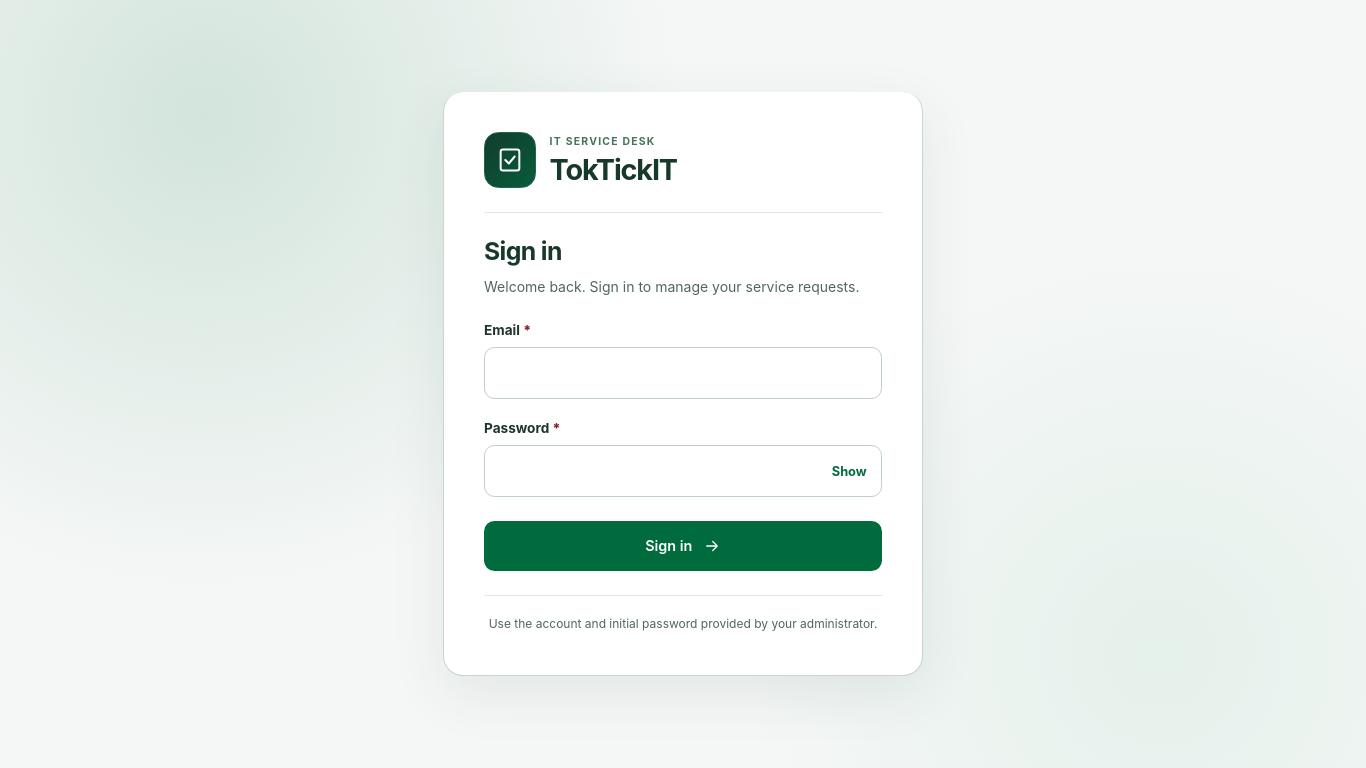
it: Lab 3 authentication UI and role shell › keeps email, clears password and renders a safe server failure
Step 1. Type "jennifer@example.test" into the field labelled "Email *" → [683, 373], box [484,347,882,399]
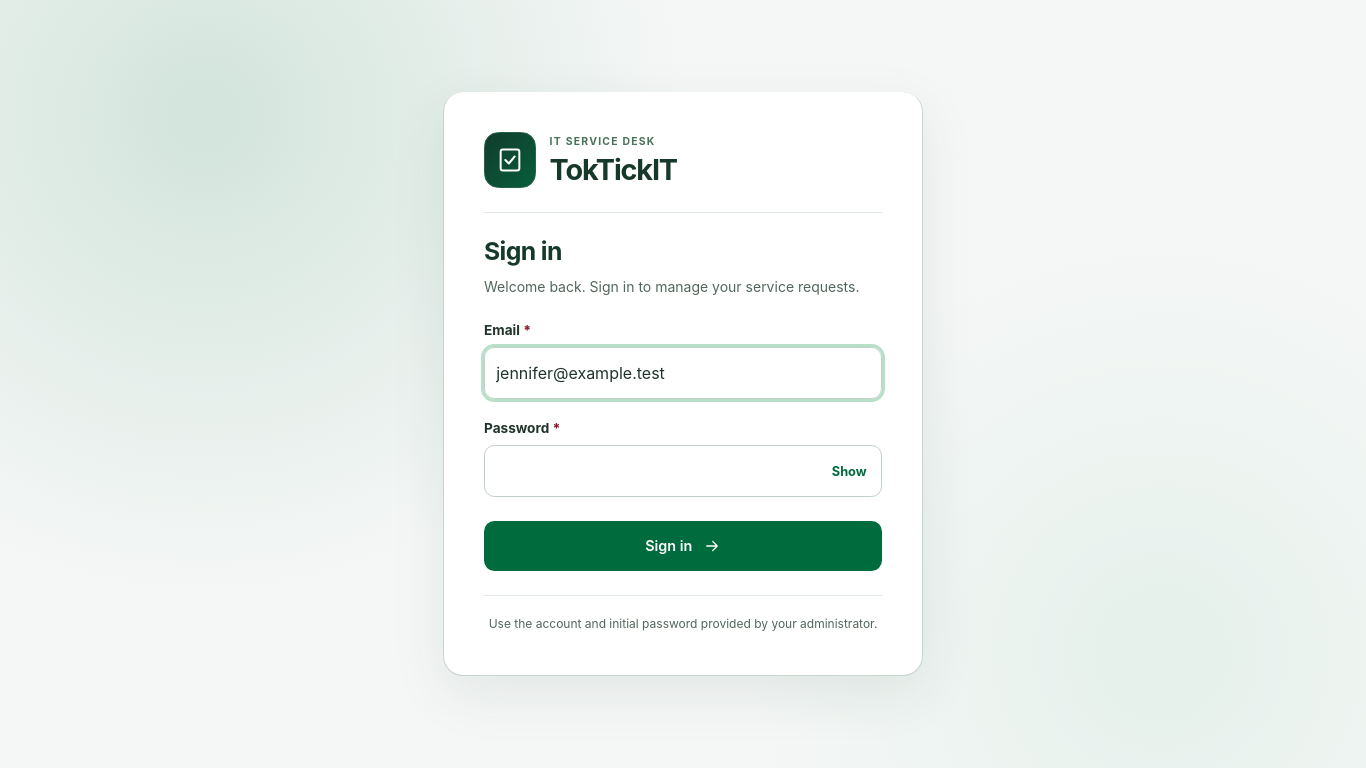
Step 2. Type "Wrong Password" into the password field labelled "Password *" → [683, 471], box [484,445,882,497]
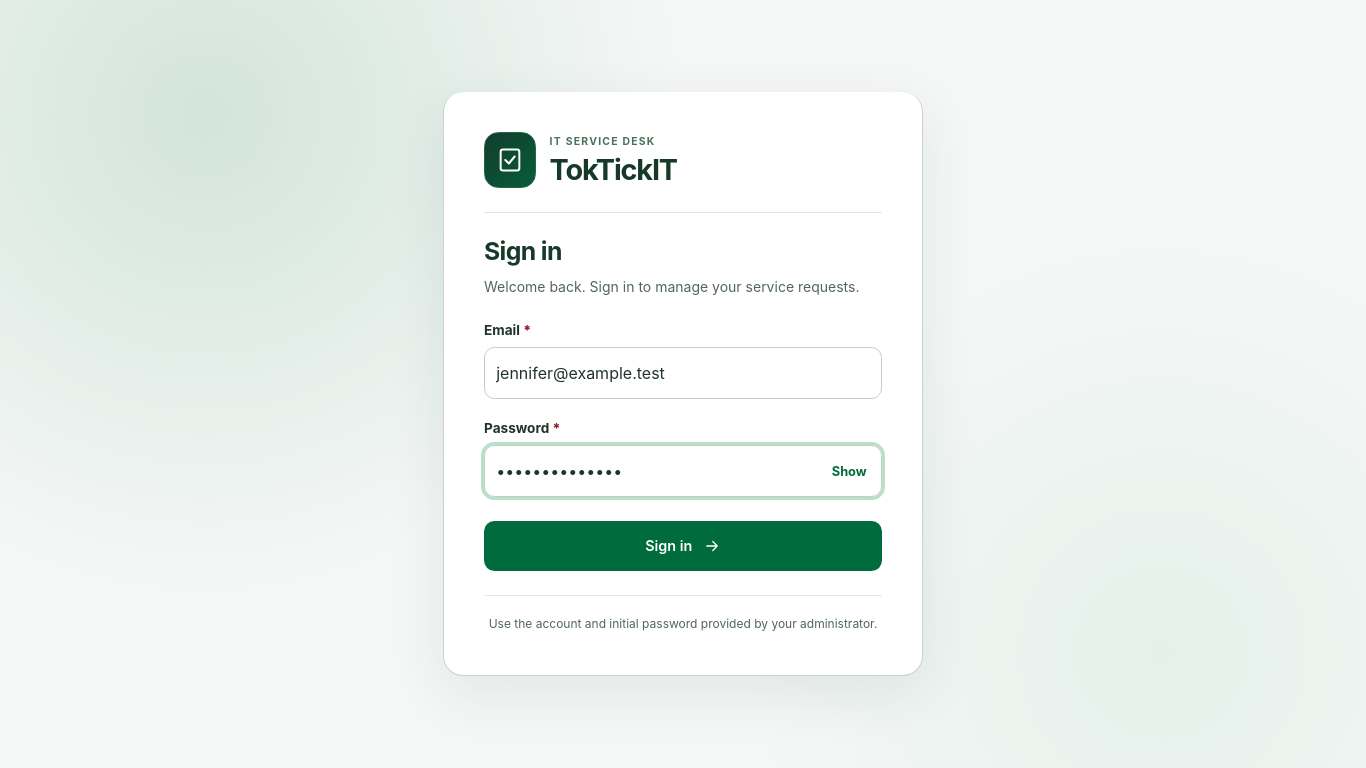
Step 3. Click the button "Sign in" → [683, 546], box [484,521,882,571]
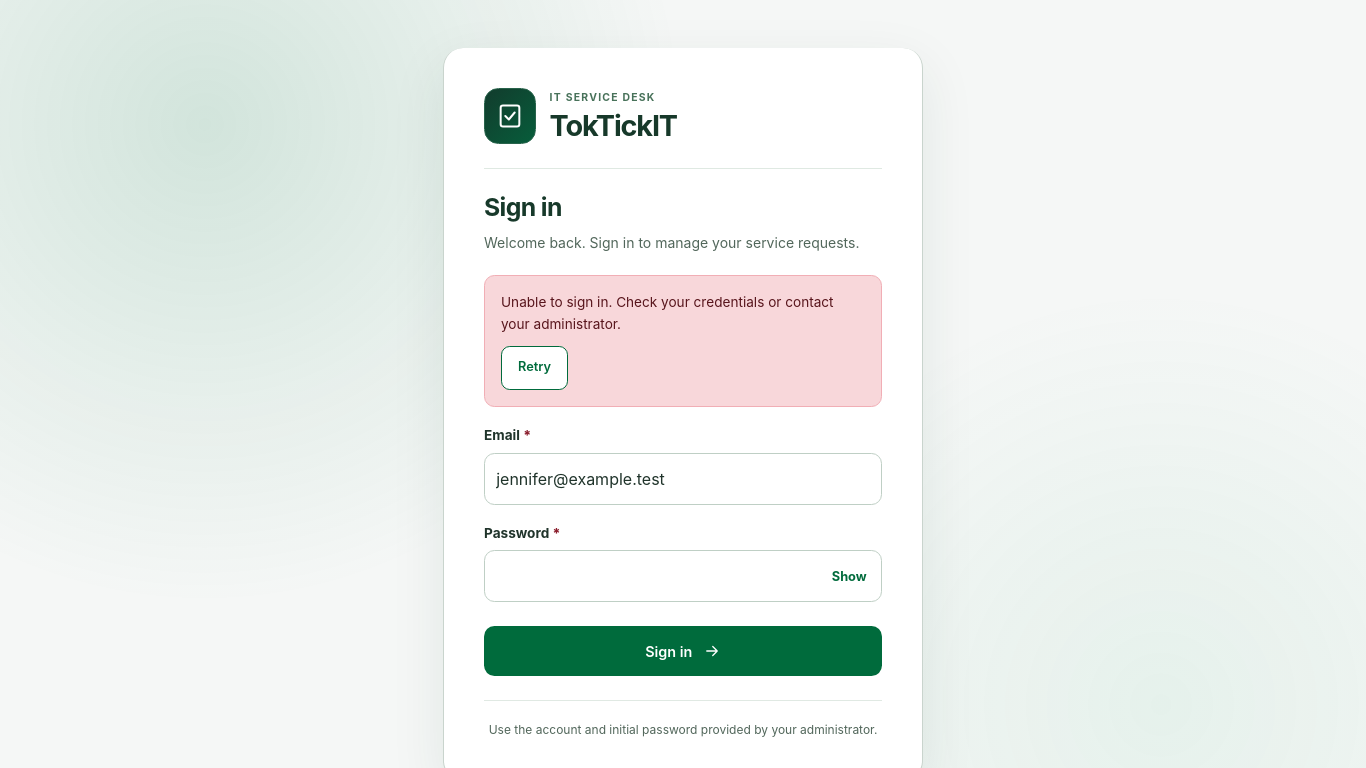
Result: the message shows "Check your credentials" at [501,294,834,332]
Result: the password field labelled "Password *" is empty at [484,550,882,602]
